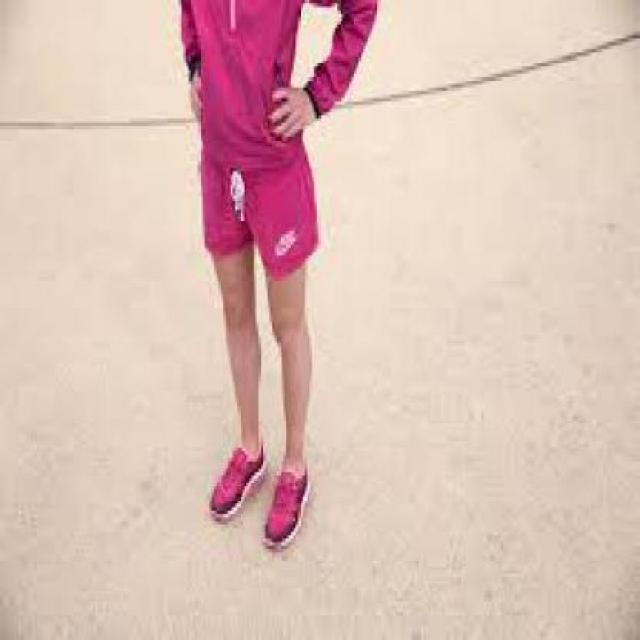Nike: (268, 223, 299, 256)
